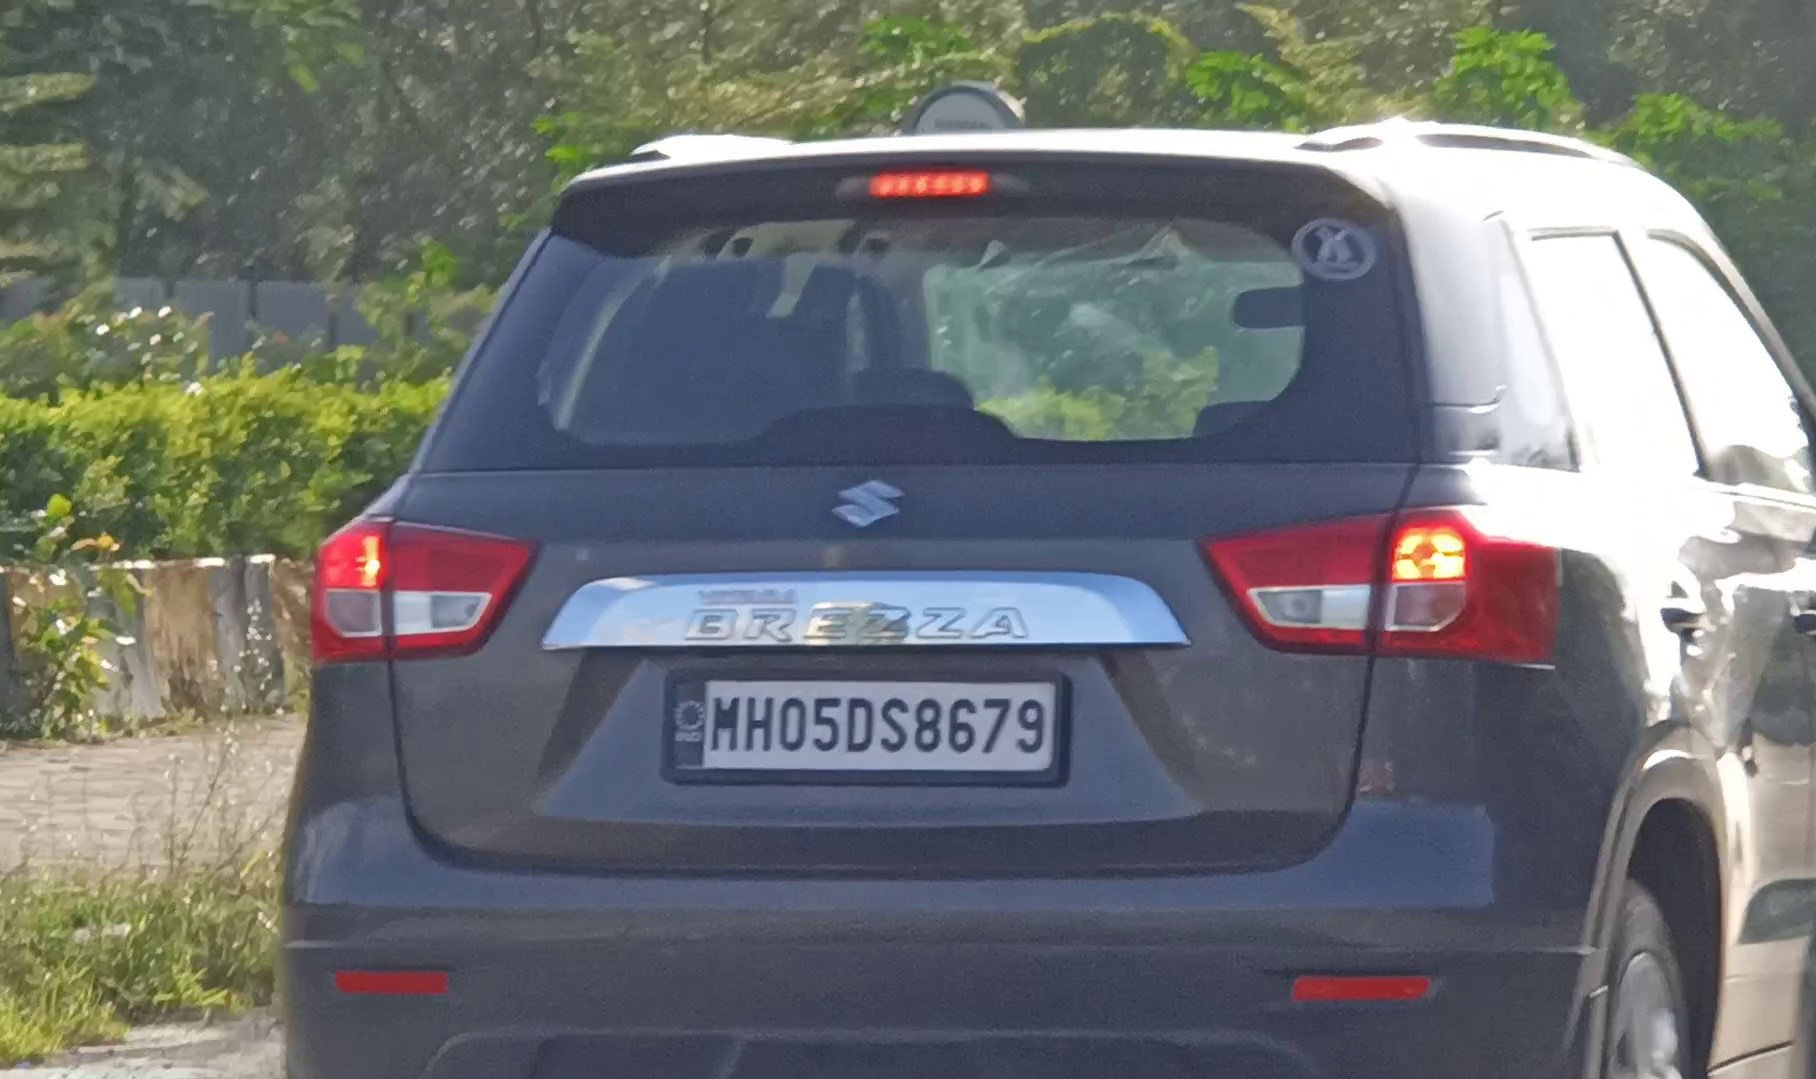MH05DS8679: (670, 674, 1058, 773)
